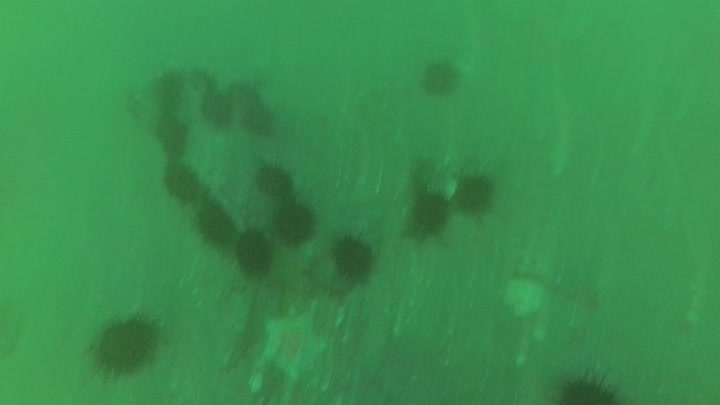echinus: (81, 312, 165, 383), (263, 193, 320, 249), (189, 197, 244, 255), (554, 364, 625, 405), (330, 230, 379, 286), (232, 223, 277, 280), (161, 158, 209, 209), (253, 157, 299, 205), (408, 186, 453, 235), (454, 170, 498, 218), (152, 111, 191, 159), (224, 79, 268, 119), (200, 84, 236, 132), (153, 67, 189, 115), (422, 58, 465, 98), (240, 111, 278, 140), (187, 67, 220, 98)
starfish: (256, 311, 332, 383)
